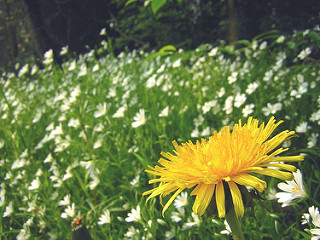dandelion yellow: (141, 114, 305, 222)
